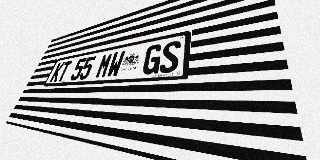5: (78, 56, 96, 80), (69, 58, 87, 81)
G: (141, 43, 163, 75)
K: (49, 62, 65, 82)
M: (94, 53, 114, 79)
S: (158, 40, 182, 74)
T: (56, 60, 73, 82)
W: (106, 50, 126, 78)
